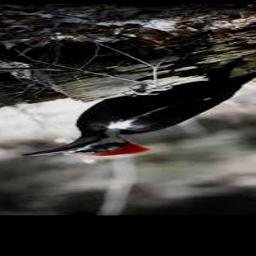Woodpecker: (23, 61, 256, 159)
